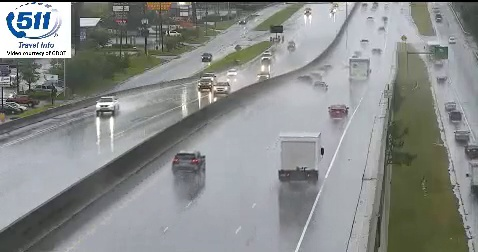car: (172, 151, 206, 172), (329, 105, 348, 119)
small-truck: (278, 132, 322, 180), (348, 57, 370, 83)
